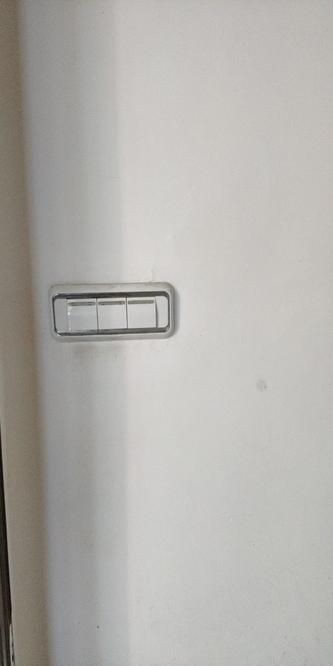switch: (64, 298, 102, 332), (124, 297, 157, 331), (98, 293, 125, 332)
